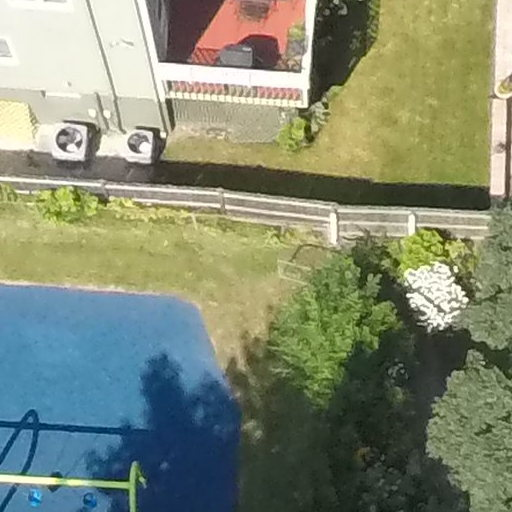air conditioner: (52, 121, 96, 166), (118, 128, 161, 163)
barbecue: (212, 40, 263, 77)
container: (285, 40, 308, 60), (286, 24, 305, 41)
fence: (2, 170, 512, 269)
flower pot: (287, 40, 306, 58), (287, 25, 305, 41)
